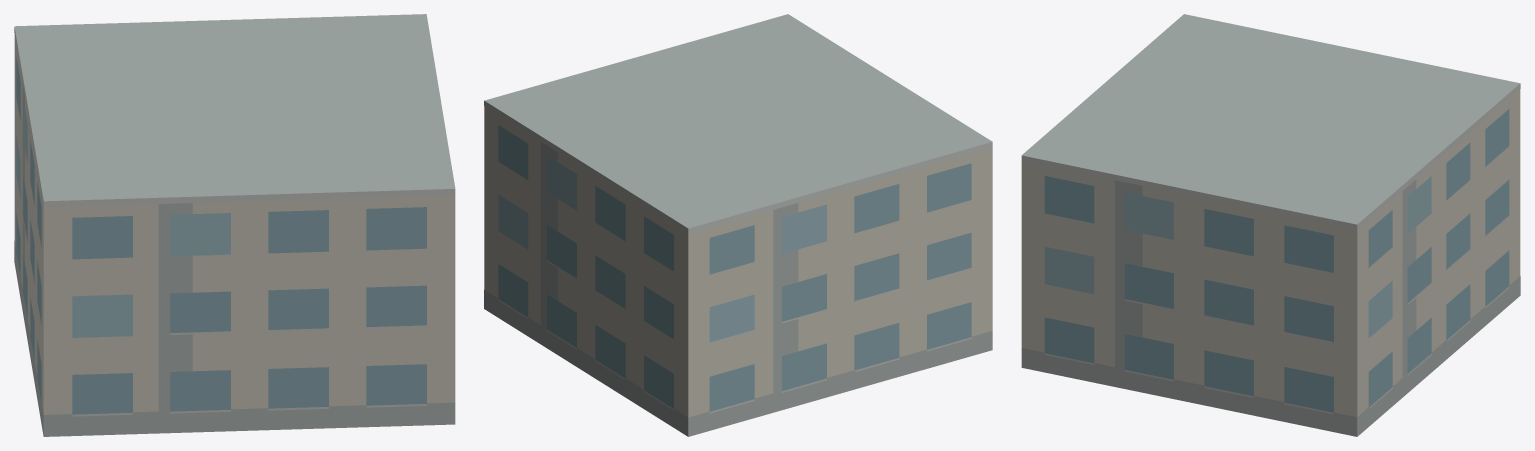
Rendered from survey-upis-32850874.glb.
The picture shows the model from 3 angles, left to right: view 1: azimuth 30°, elevation 25°; view 2: azimuth 150°, elevation 25°; view 3: azimuth 270°, elevation 25°; orthographic projection. The views are drawn at different scales.
Parts seen in each view (by area): view 1: survey-upis-32850874.tmp; view 2: survey-upis-32850874.tmp; view 3: survey-upis-32850874.tmp.
Part boxes in pixels (bbox=[...]): survey-upis-32850874.tmp: bbox=[14, 14, 455, 436]; survey-upis-32850874.tmp: bbox=[484, 14, 992, 436]; survey-upis-32850874.tmp: bbox=[1021, 14, 1520, 436].
Size of the model in its own units: 19.48 by 9.15 by 19.5.
